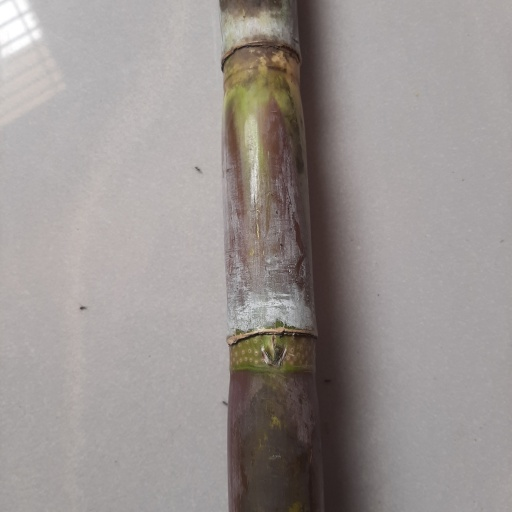Bud: (260, 335, 286, 366)
